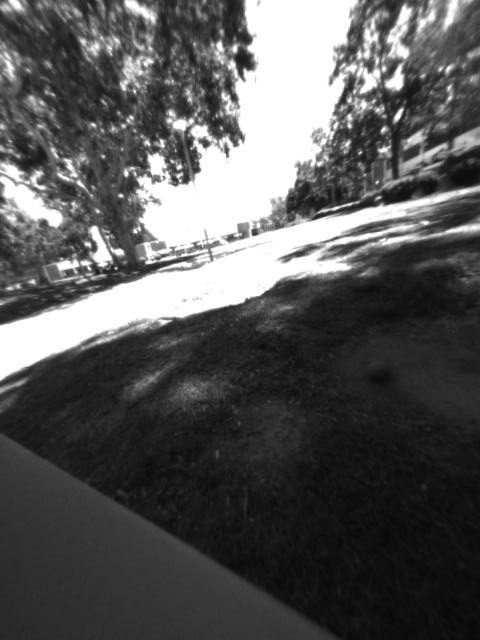dogtoy: (356, 350, 398, 392)
